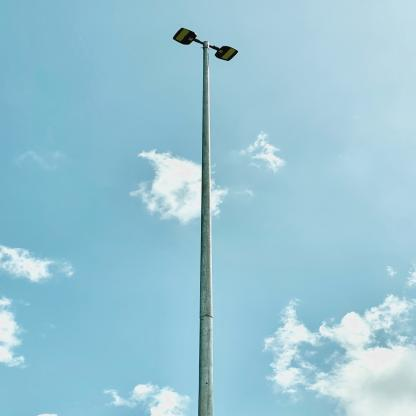light_pole: (172, 27, 239, 415)
